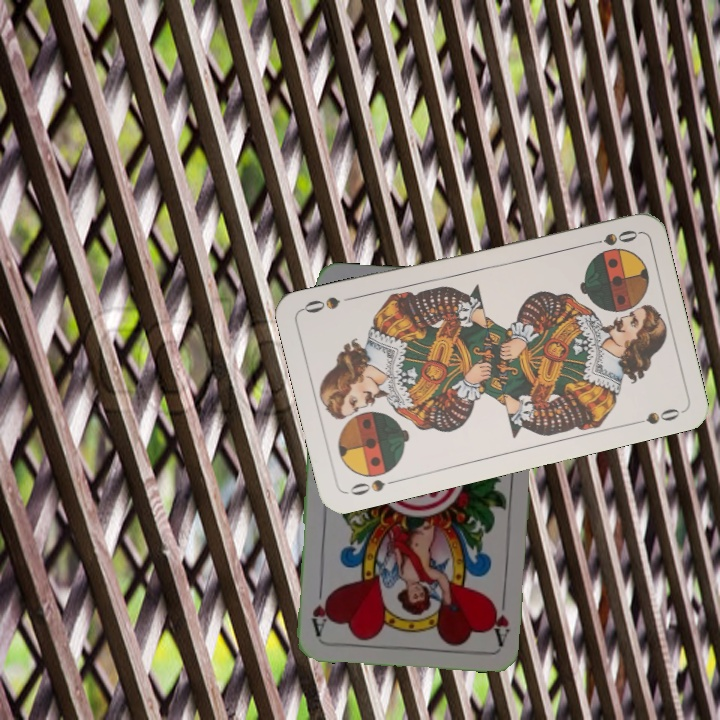HA: (488, 588, 512, 647)
SO: (581, 226, 640, 249), (343, 475, 402, 498)
